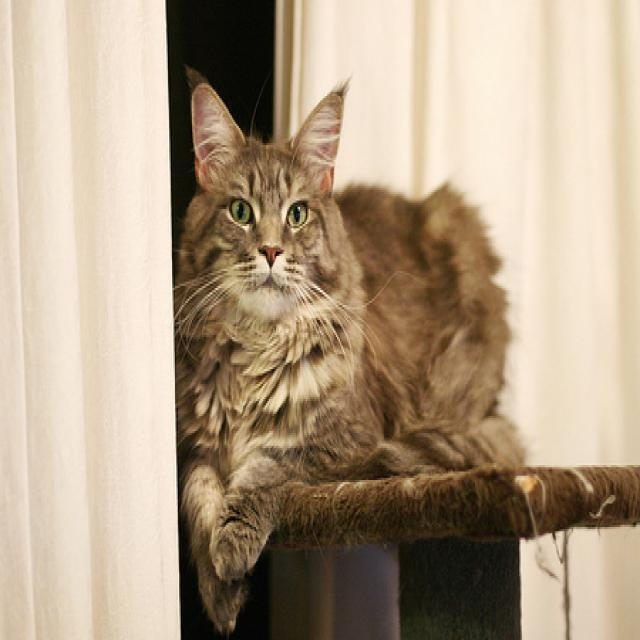Maine Coon: (172, 68, 531, 632)
